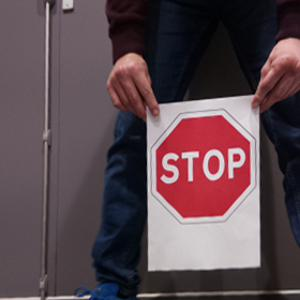stop: (152, 110, 257, 224)
